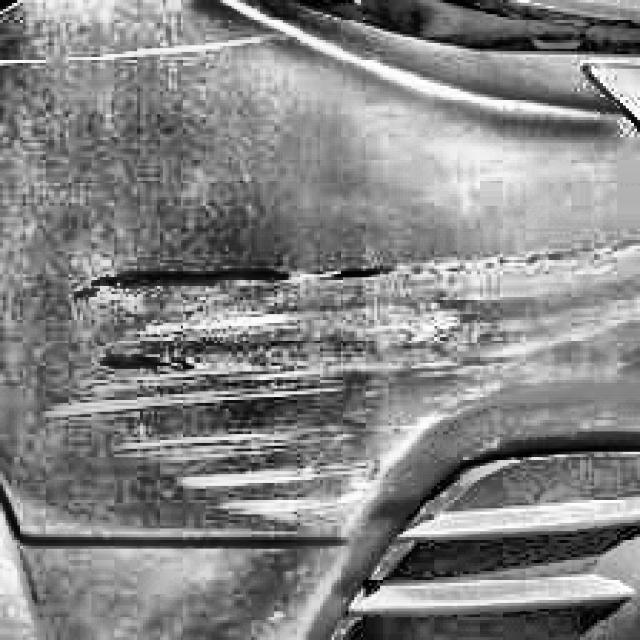bumper_scratch: (51, 253, 576, 524)
